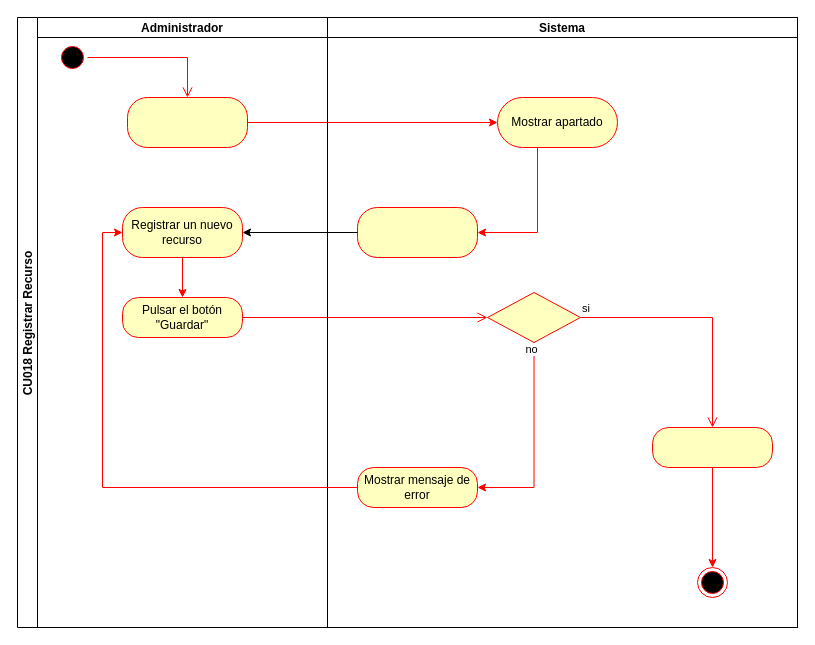
Image size: 815x645. Some labels were removed from this diagram. The shapes that lost their labels are listed below. From the top down, each one's centre as x and y in pixels, then its label:
(187,122): Pulsa el apartado "Recursos"
(417,232): Mostrar listado de recursos
(533,317): ¿Datos válidos?
(712,447): Mostrar mensaje de éxito
